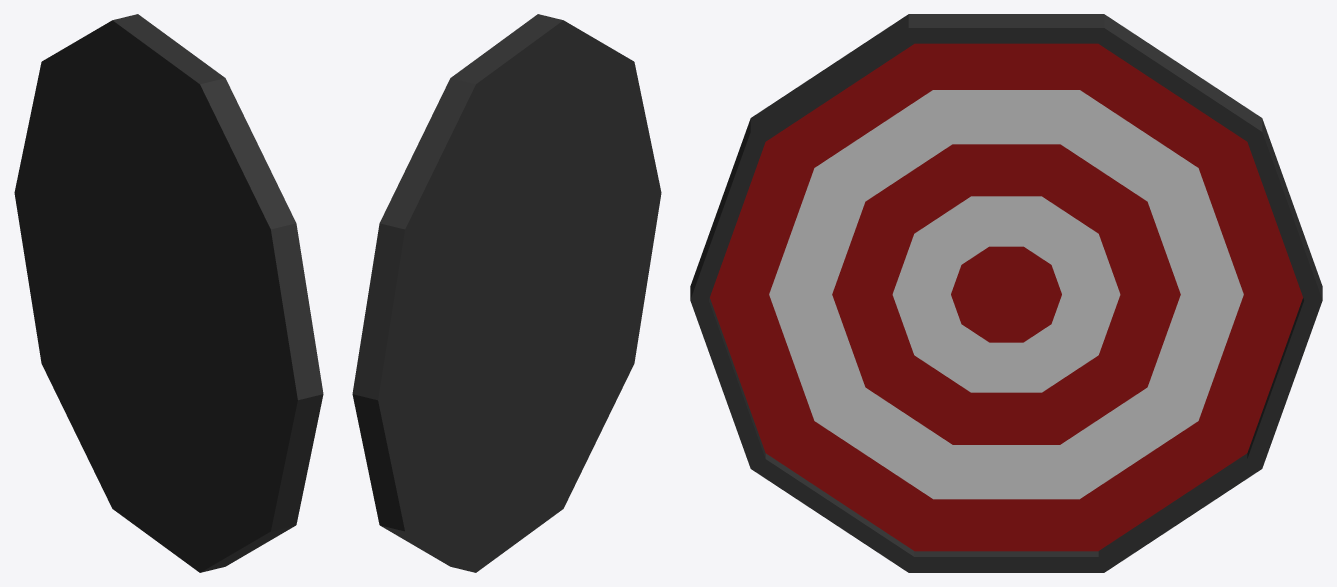
Rendered from Dart.fbx.
3 renders of one model, left to right at view 1: azimuth 30°, elevation 25°; view 2: azimuth 150°, elevation 25°; view 3: azimuth 270°, elevation 25°, orthographic. The views are drawn at different scales.
Visible parts, largest first — view 1: Circle; view 2: Circle; view 3: Circle.
Part boxes in pixels (x1,y1,x2,y2): Circle: (14, 14, 323, 572); Circle: (352, 14, 661, 572); Circle: (690, 14, 1322, 572).
Bounding box in the file's own units: 10.42 × 190 × 200.
